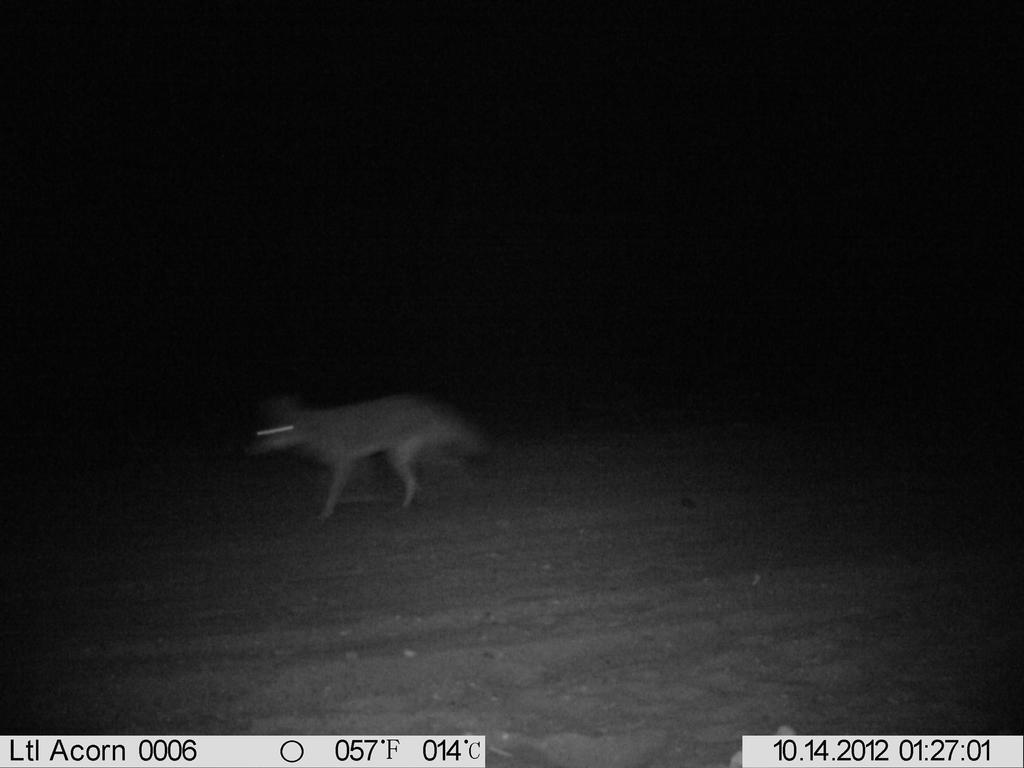coyote: (237, 365, 498, 533)
